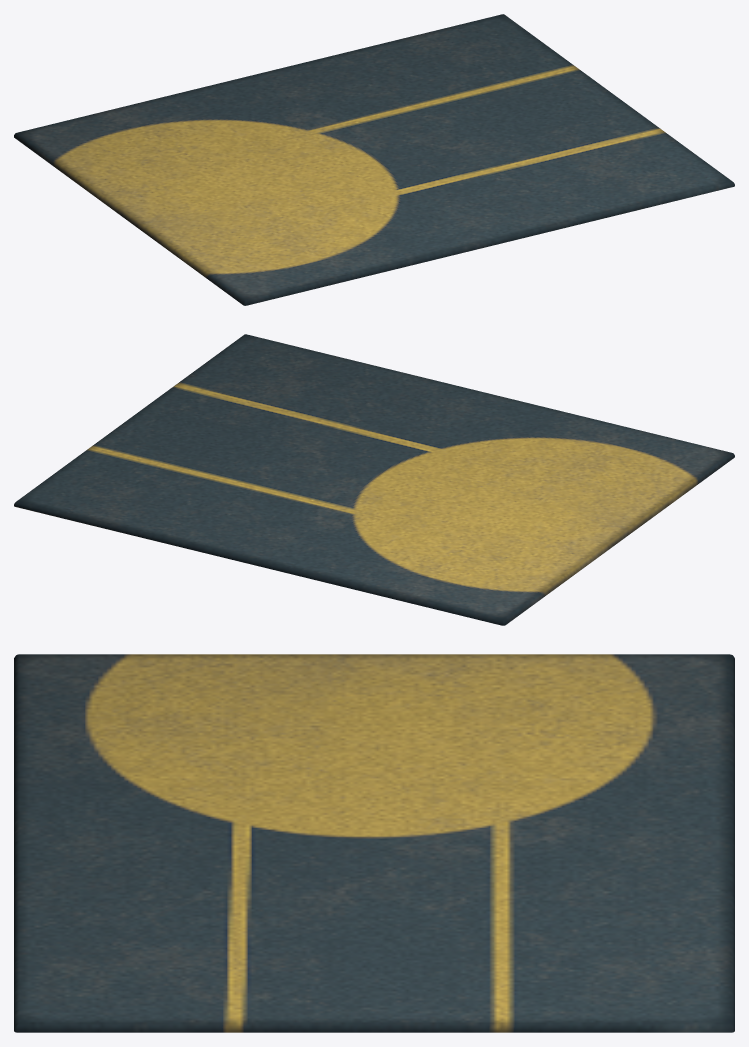
Rendered from EE_Carpet_01.gltf.
3 renders of one model, top to bottom at view 1: azimuth 30°, elevation 25°; view 2: azimuth 150°, elevation 25°; view 3: azimuth 270°, elevation 25°, orthographic. The views are drawn at different scales.
Parts seen in each view (by area): view 1: EE_Carpet_01.001; view 2: EE_Carpet_01.001; view 3: EE_Carpet_01.001.
Part boxes in pixels (x1,y1,x2,y2): EE_Carpet_01.001: [14, 14, 734, 305]; EE_Carpet_01.001: [14, 334, 734, 625]; EE_Carpet_01.001: [14, 654, 734, 1032].
Size of what is drawn, in the model's own units: 2.96 by 0.0268 by 2.42.
1 material, 1 textured.
